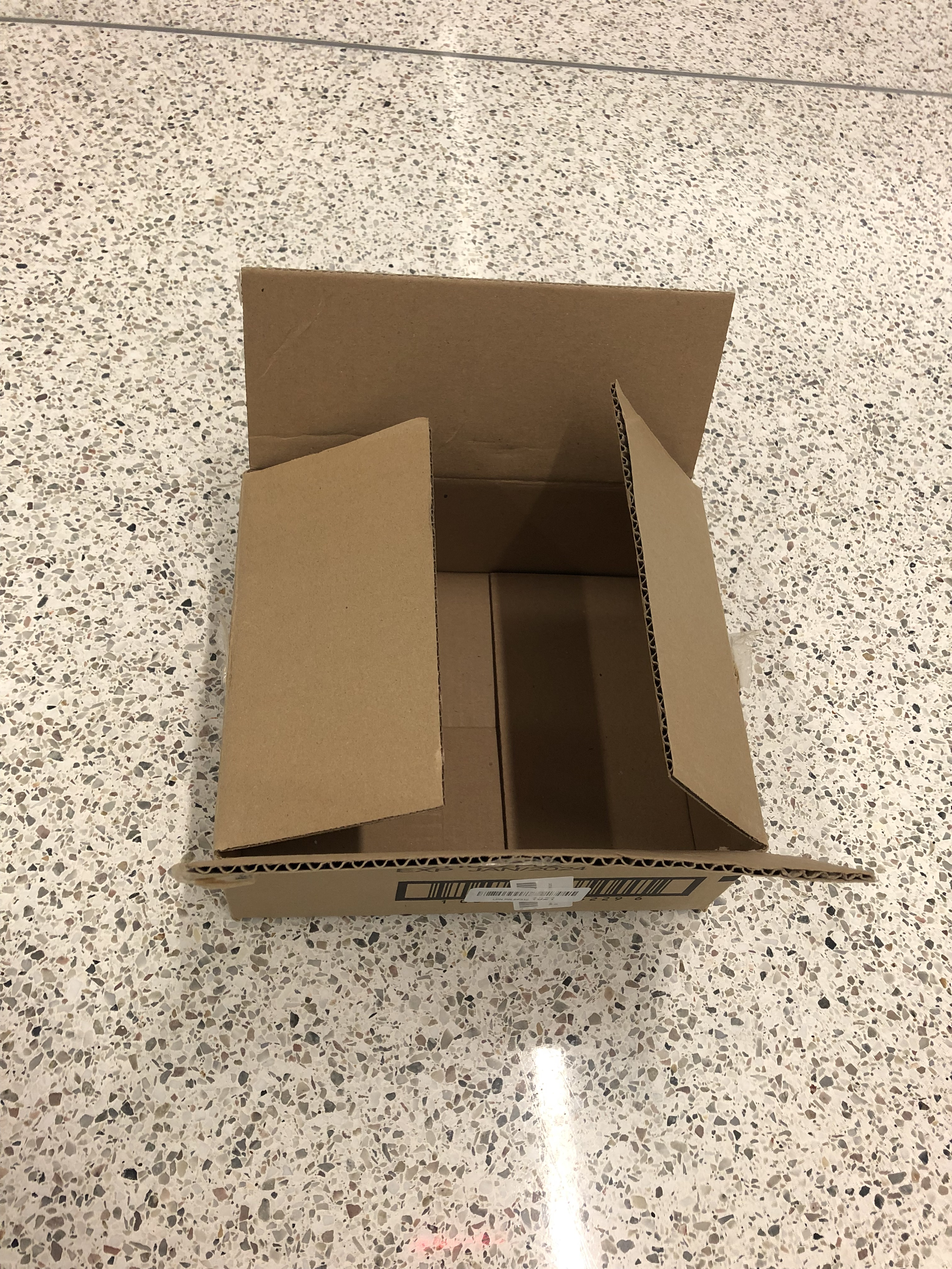box: (178, 264, 874, 916)
crushed: (182, 263, 875, 888)
